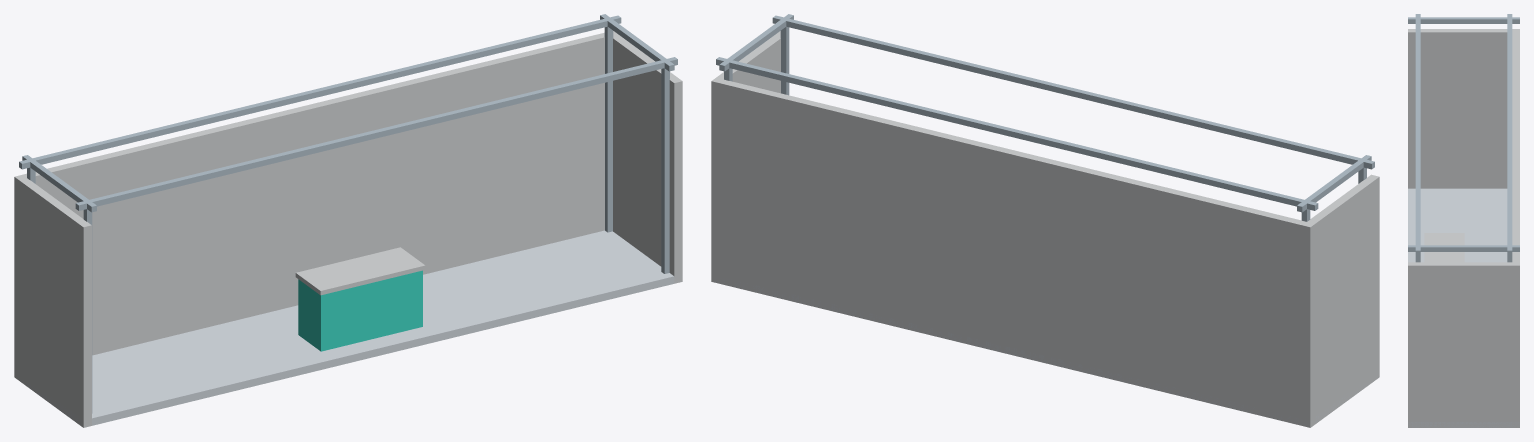
The picture shows the model from 3 angles, left to right: view 1: azimuth 30°, elevation 25°; view 2: azimuth 150°, elevation 25°; view 3: azimuth 270°, elevation 25°; orthographic projection. The views are drawn at different scales.
Visible parts, largest first — view 1: Exhibition Booth Concept; view 2: Exhibition Booth Concept; view 3: Exhibition Booth Concept.
Boxes of the visible parts, left/top/right/bottom form: Exhibition Booth Concept: left=14, top=14, right=682, bottom=427; Exhibition Booth Concept: left=711, top=14, right=1379, bottom=427; Exhibition Booth Concept: left=1408, top=14, right=1519, bottom=427.
Size of the model in its own units: 10 by 3.49 by 2.
